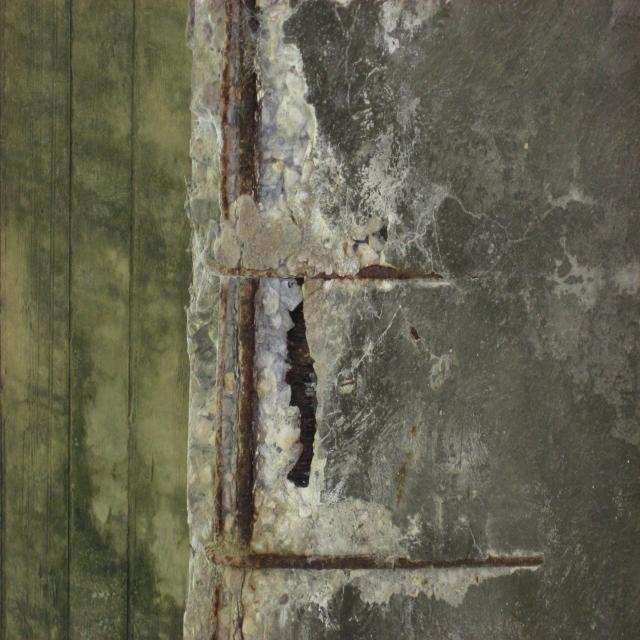Rebar: (185, 0, 546, 640)
